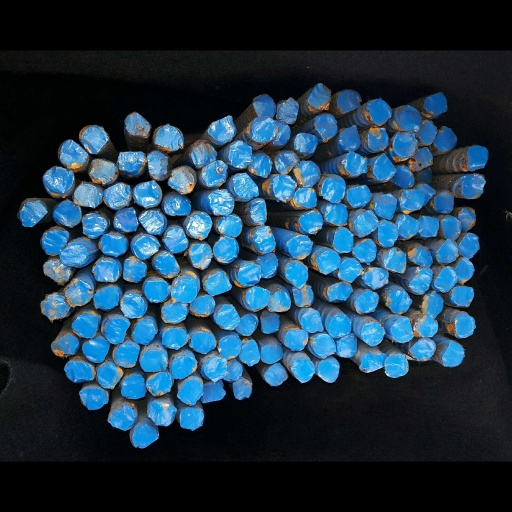dipstick: (43, 166, 75, 197), (58, 139, 87, 171), (17, 198, 48, 227), (167, 165, 197, 194), (79, 125, 108, 154), (102, 182, 132, 209), (65, 279, 93, 307), (208, 115, 236, 143), (190, 139, 217, 168), (152, 124, 183, 149), (53, 199, 81, 226), (89, 159, 118, 185), (40, 229, 69, 255), (201, 159, 228, 186), (232, 173, 259, 200), (293, 160, 320, 187), (108, 404, 136, 430), (213, 236, 239, 264), (250, 116, 278, 142), (394, 105, 422, 131), (96, 363, 123, 389), (186, 213, 212, 240), (133, 180, 159, 207), (40, 293, 68, 318), (82, 337, 110, 362), (60, 243, 89, 267), (138, 210, 167, 234), (148, 151, 172, 180), (131, 318, 157, 344), (213, 304, 239, 330), (208, 189, 234, 215), (124, 112, 150, 138), (204, 271, 231, 296), (74, 183, 102, 207), (148, 402, 176, 426), (228, 140, 252, 168), (252, 226, 276, 254), (43, 260, 72, 283), (50, 333, 79, 356), (118, 152, 147, 175), (64, 360, 94, 382), (114, 342, 139, 368), (176, 380, 202, 405), (171, 278, 197, 303), (154, 252, 180, 277), (286, 235, 312, 260), (71, 314, 98, 338), (284, 262, 308, 289), (272, 175, 296, 202), (372, 153, 396, 180), (354, 210, 378, 237), (315, 112, 337, 141), (82, 213, 107, 238), (104, 318, 129, 343), (163, 228, 188, 253), (274, 150, 299, 175), (132, 424, 158, 448), (146, 372, 172, 396), (252, 93, 276, 119), (321, 177, 345, 203), (367, 98, 391, 124), (409, 337, 435, 361), (161, 300, 188, 323), (308, 83, 331, 110), (409, 266, 432, 293), (98, 234, 126, 256), (79, 388, 108, 409), (121, 374, 146, 398), (409, 147, 433, 172), (133, 236, 159, 259), (93, 286, 119, 309), (171, 356, 197, 379), (189, 331, 215, 354), (249, 152, 272, 178), (434, 125, 457, 151), (140, 349, 167, 371), (277, 97, 299, 124), (434, 266, 456, 293), (203, 357, 227, 381), (237, 262, 261, 286), (316, 250, 340, 274), (337, 89, 361, 113), (338, 258, 362, 282), (386, 290, 410, 314), (123, 257, 146, 282), (255, 253, 278, 278), (263, 363, 288, 386), (393, 132, 416, 157), (391, 317, 414, 342), (384, 354, 409, 377), (396, 214, 419, 239), (161, 327, 187, 349), (189, 295, 215, 317), (375, 194, 397, 220), (362, 267, 388, 289), (384, 247, 406, 273), (442, 341, 464, 367), (239, 339, 260, 366), (326, 281, 353, 302), (113, 208, 137, 231), (120, 294, 144, 317), (219, 335, 242, 359), (245, 287, 269, 310), (291, 358, 314, 382), (312, 335, 336, 358), (327, 315, 351, 338), (299, 210, 323, 233), (358, 353, 387, 372), (93, 260, 118, 282), (179, 407, 204, 429), (200, 381, 225, 403), (144, 280, 169, 302), (421, 293, 443, 318), (190, 243, 211, 269), (164, 195, 191, 215), (378, 220, 398, 247), (324, 202, 347, 225), (361, 323, 384, 346), (424, 92, 447, 115), (217, 215, 241, 237), (260, 342, 284, 364), (315, 360, 339, 382), (343, 152, 367, 174), (347, 185, 371, 207), (355, 290, 379, 312), (436, 239, 458, 263), (462, 174, 484, 198), (407, 246, 432, 267), (413, 316, 438, 337), (247, 199, 267, 225), (333, 227, 353, 253), (459, 232, 479, 258), (301, 309, 323, 332), (291, 285, 314, 307), (391, 166, 414, 188), (353, 239, 376, 261), (336, 333, 357, 357), (400, 190, 424, 211), (467, 145, 488, 169), (340, 126, 360, 151), (454, 257, 474, 282), (268, 289, 290, 311), (236, 313, 258, 335), (417, 215, 439, 237), (368, 128, 389, 151), (417, 120, 436, 145), (285, 330, 307, 351), (451, 286, 473, 307), (294, 132, 317, 152), (455, 315, 475, 338), (223, 357, 242, 381), (272, 120, 290, 145), (458, 207, 475, 233), (260, 311, 280, 333), (295, 188, 317, 208), (434, 191, 454, 213), (441, 217, 461, 239), (233, 376, 252, 399)
